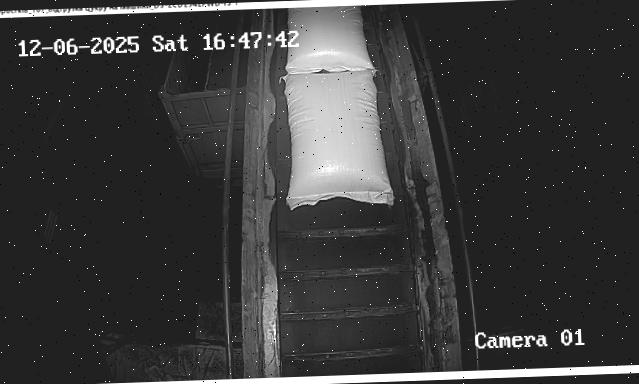bag: (281, 70, 394, 210), (284, 5, 374, 73)
